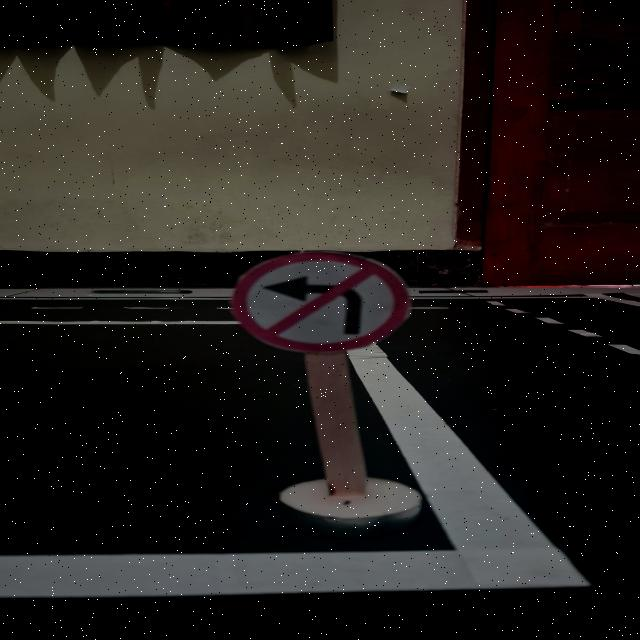Dilarang Belok Kiri: (232, 252, 408, 352)
